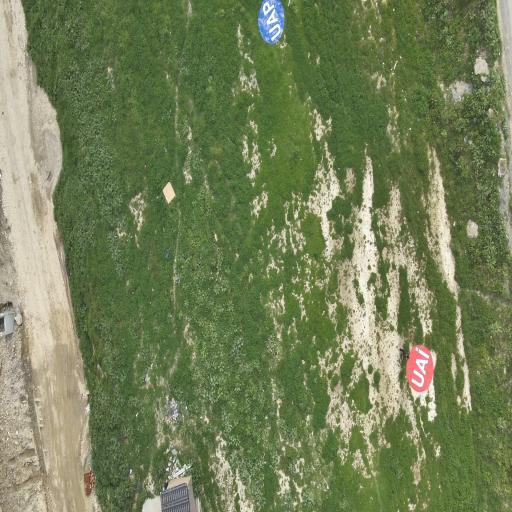UAI: (407, 346, 433, 392)
UAP: (259, 0, 284, 43)
person: (400, 348, 409, 360)
